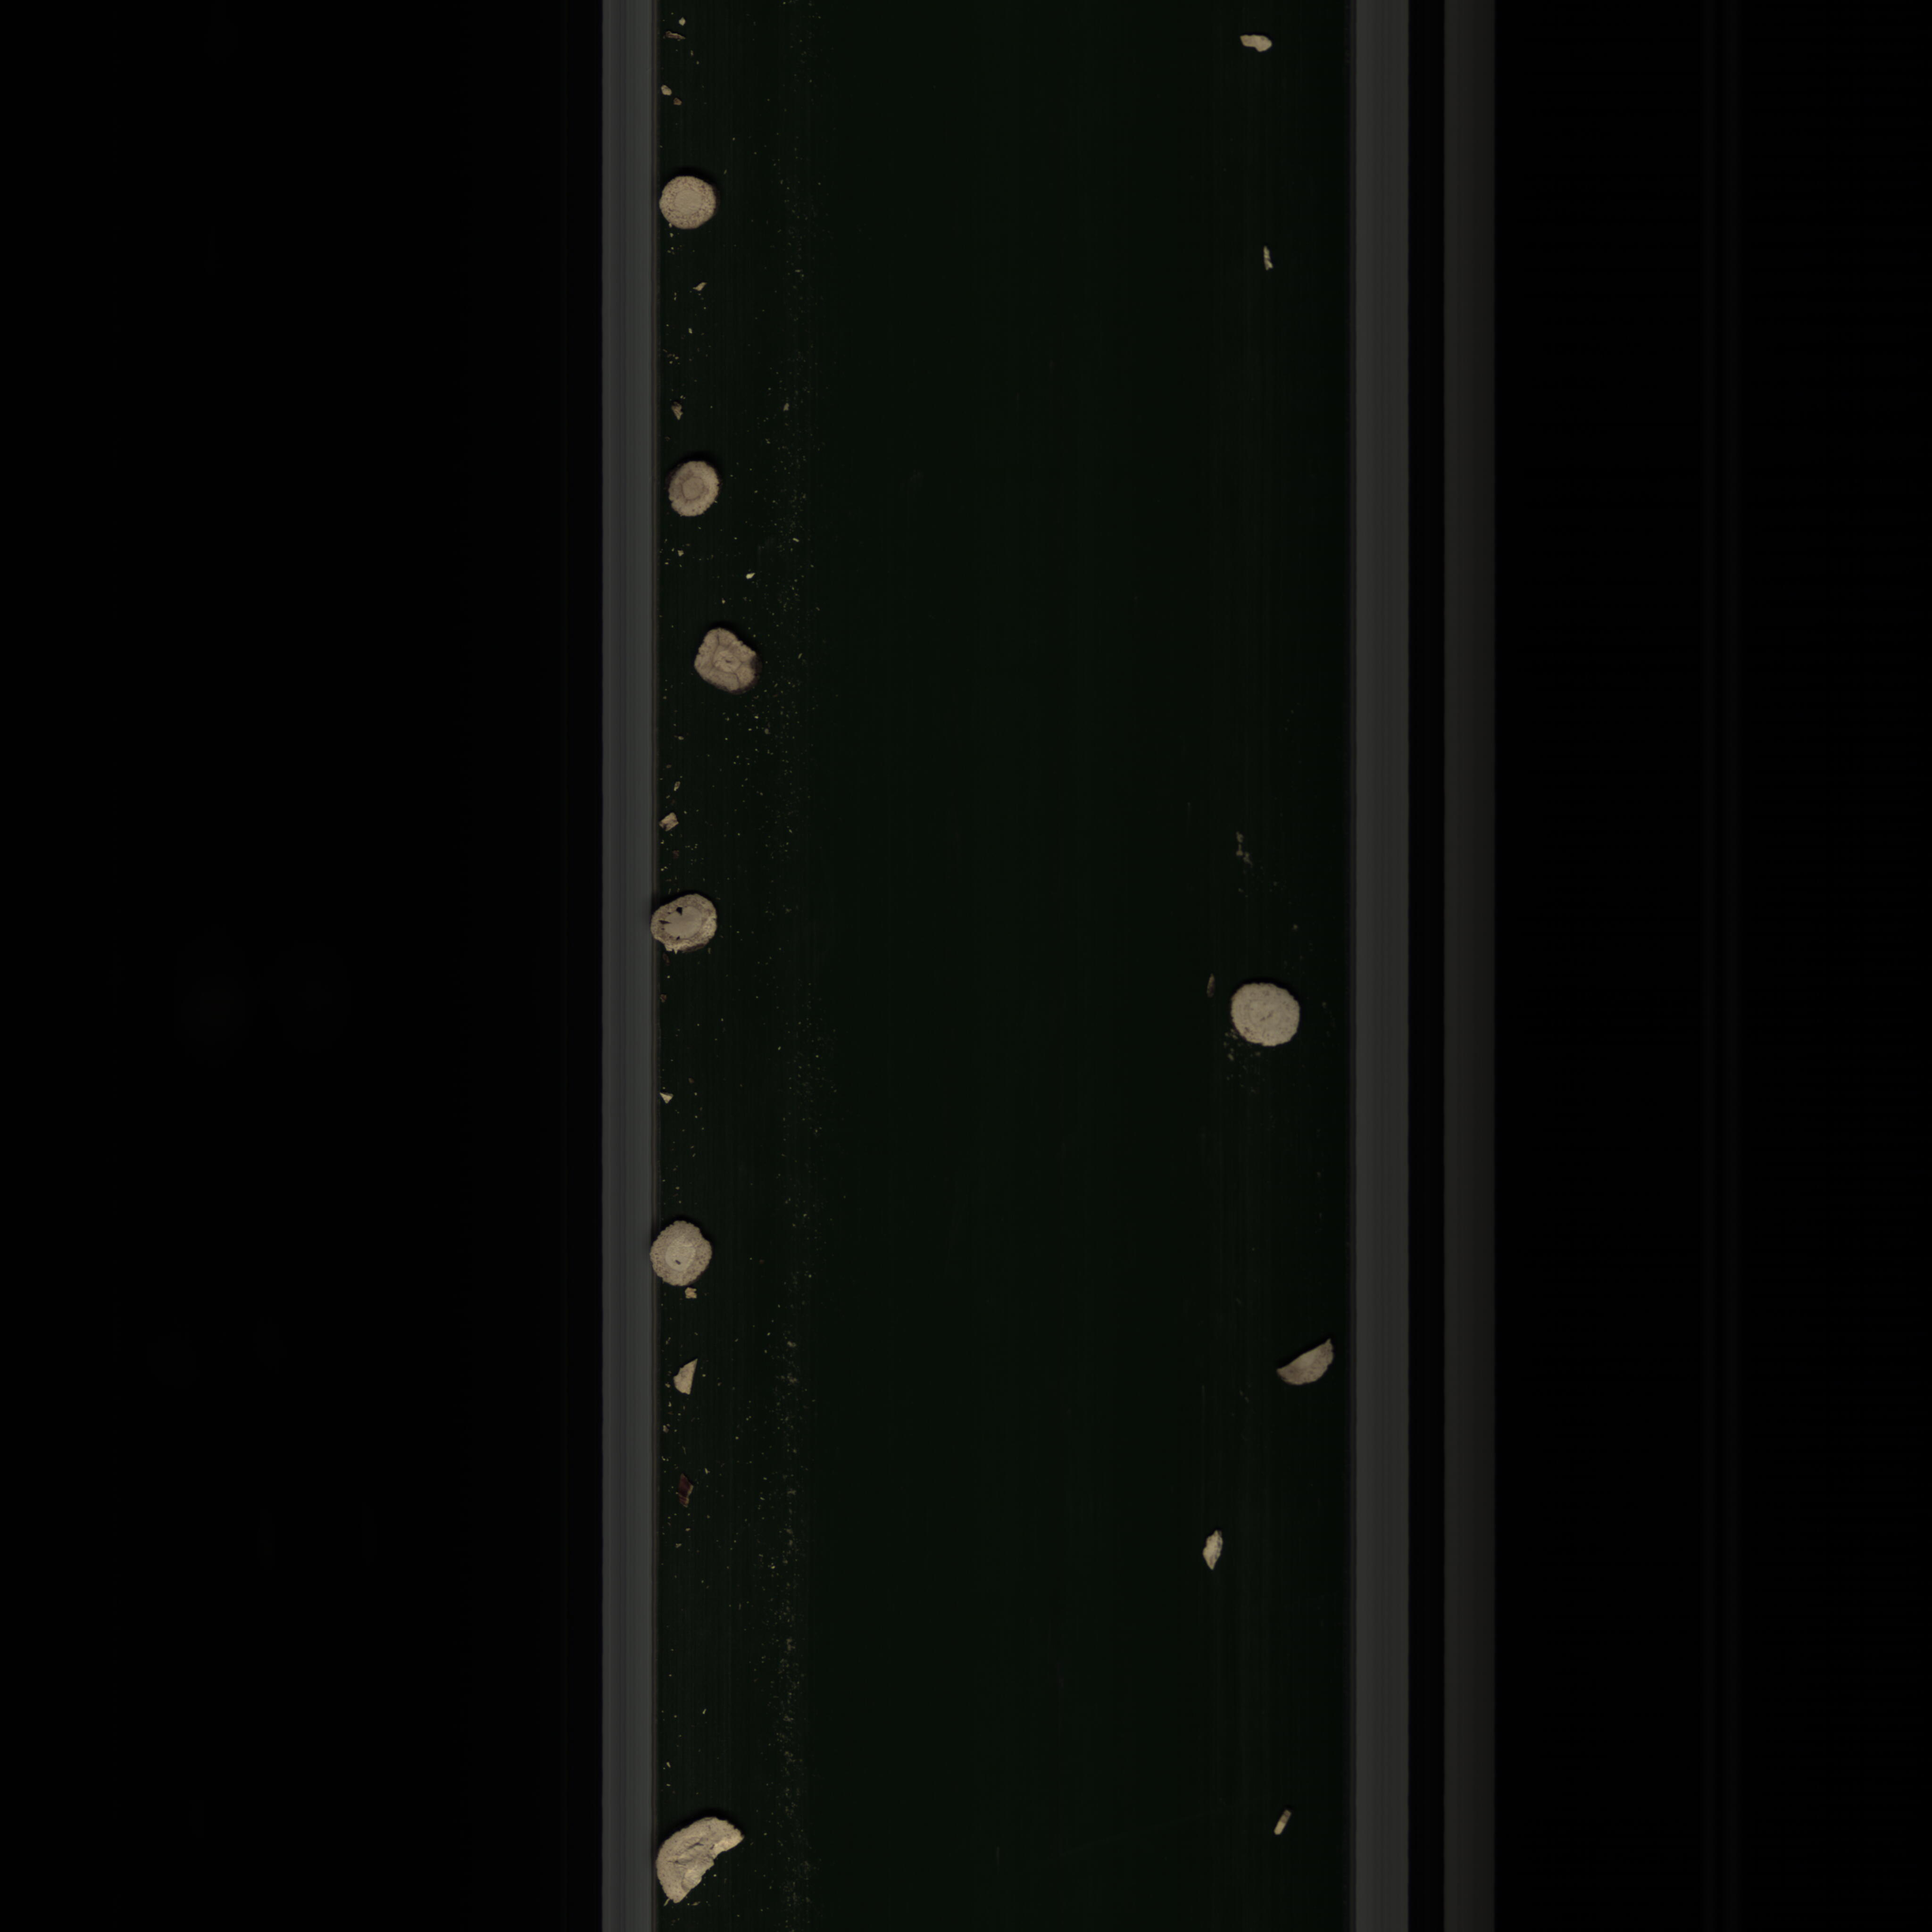debris: (653, 1812, 754, 1907), (1260, 1330, 1339, 1391), (1198, 1522, 1230, 1575), (669, 1357, 708, 1396)
distortion: (683, 625, 775, 695)
hole: (649, 888, 729, 959)
